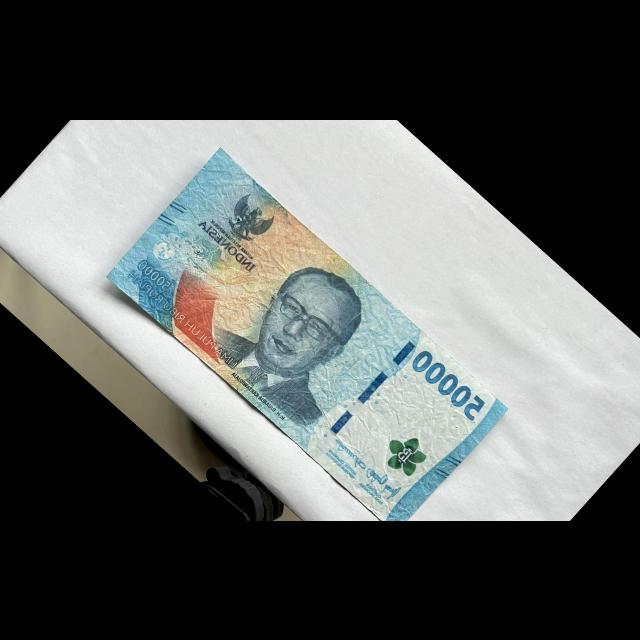Palsu-50k: (100, 143, 512, 540)
Tinta-Palsu-50k: (376, 424, 434, 482)
